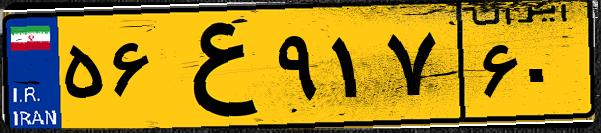0: (525, 38, 570, 115)
1: (330, 28, 385, 110)
5: (57, 26, 110, 100)
6: (475, 38, 525, 113), (110, 28, 158, 98)
7: (385, 28, 445, 110)
9: (270, 28, 330, 110)
ع: (158, 12, 270, 120)
